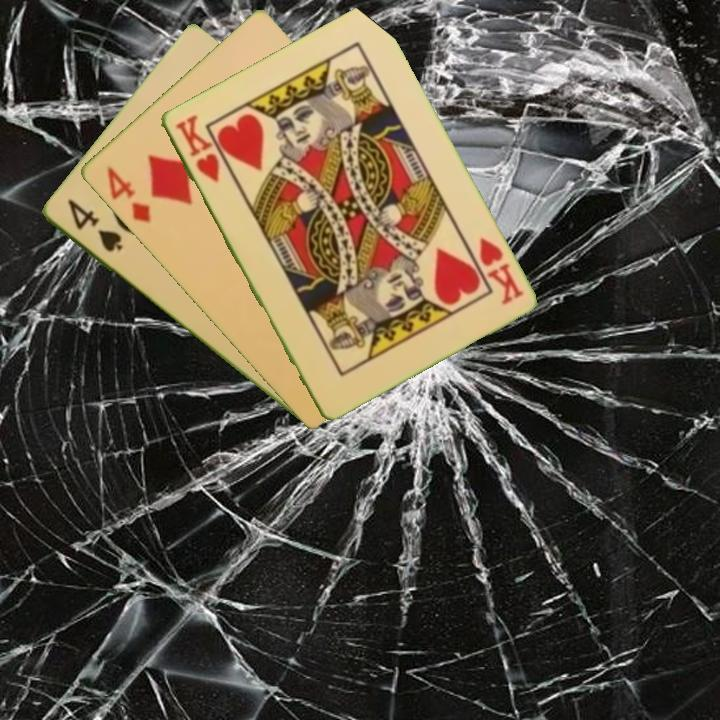4d: (102, 163, 153, 226)
4s: (63, 195, 125, 255)
Kh: (475, 233, 526, 308), (171, 111, 222, 185)
